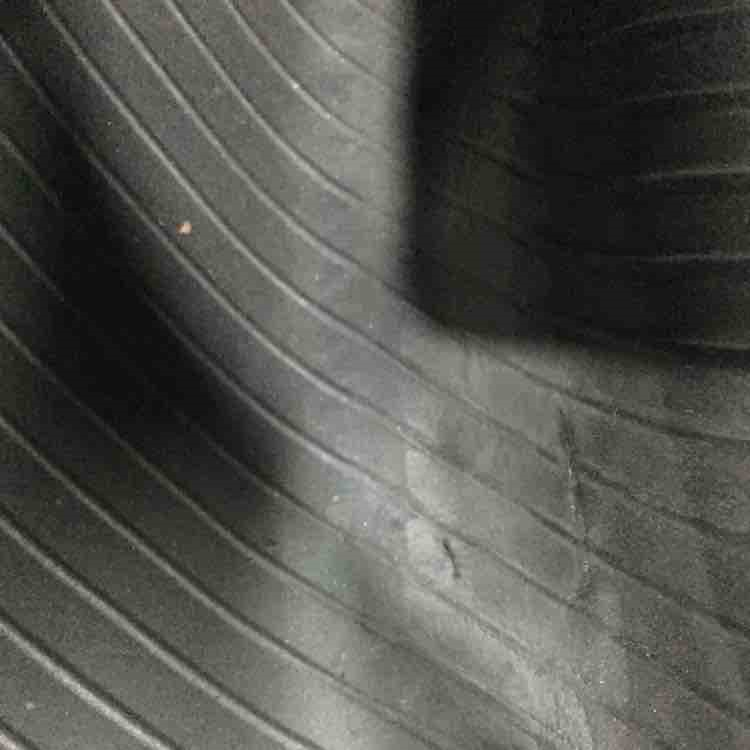cut: (548, 396, 600, 602), (437, 535, 463, 587)
